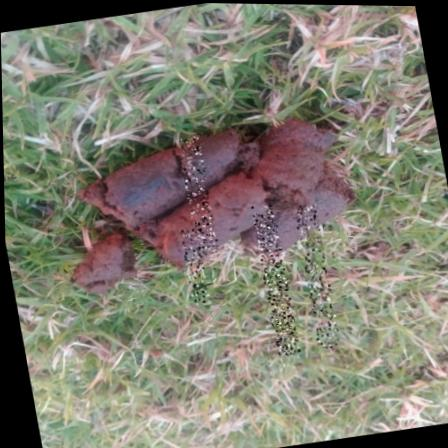dog-poop: (41, 93, 393, 322)
